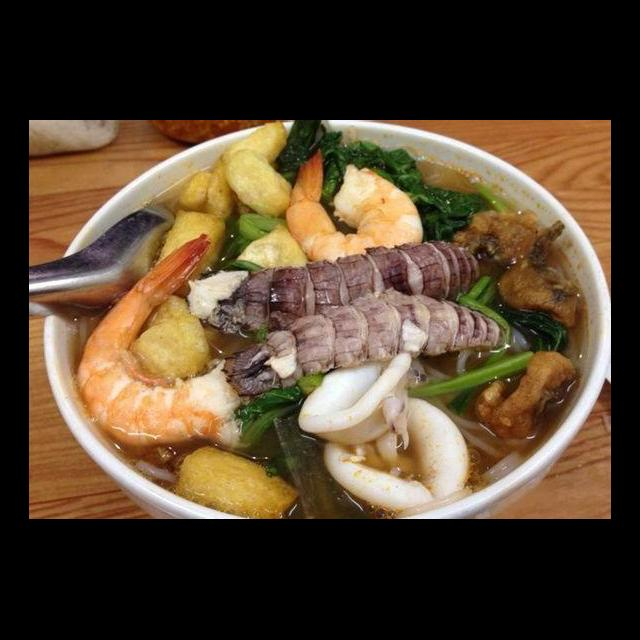bun: (410, 340, 530, 488)
bun hai san: (47, 164, 600, 519)
ca: (449, 202, 589, 336), (471, 348, 581, 448)
dau hu: (164, 442, 307, 520), (200, 121, 291, 222), (130, 290, 214, 388), (149, 204, 229, 286), (223, 150, 297, 222), (232, 220, 315, 284)
muc: (318, 392, 475, 520), (294, 344, 419, 450)
tom: (69, 230, 258, 456), (279, 146, 426, 270)
tom tit: (217, 280, 515, 400), (181, 238, 498, 340)
